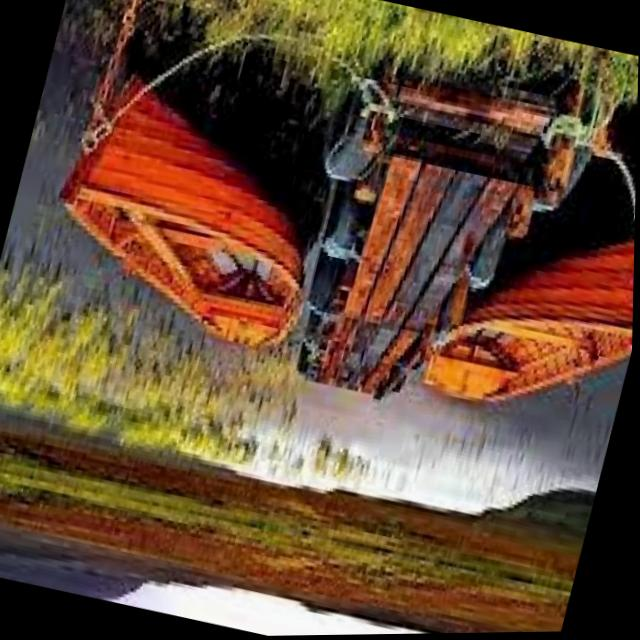ship2: (60, 75, 309, 349), (422, 242, 636, 404)
